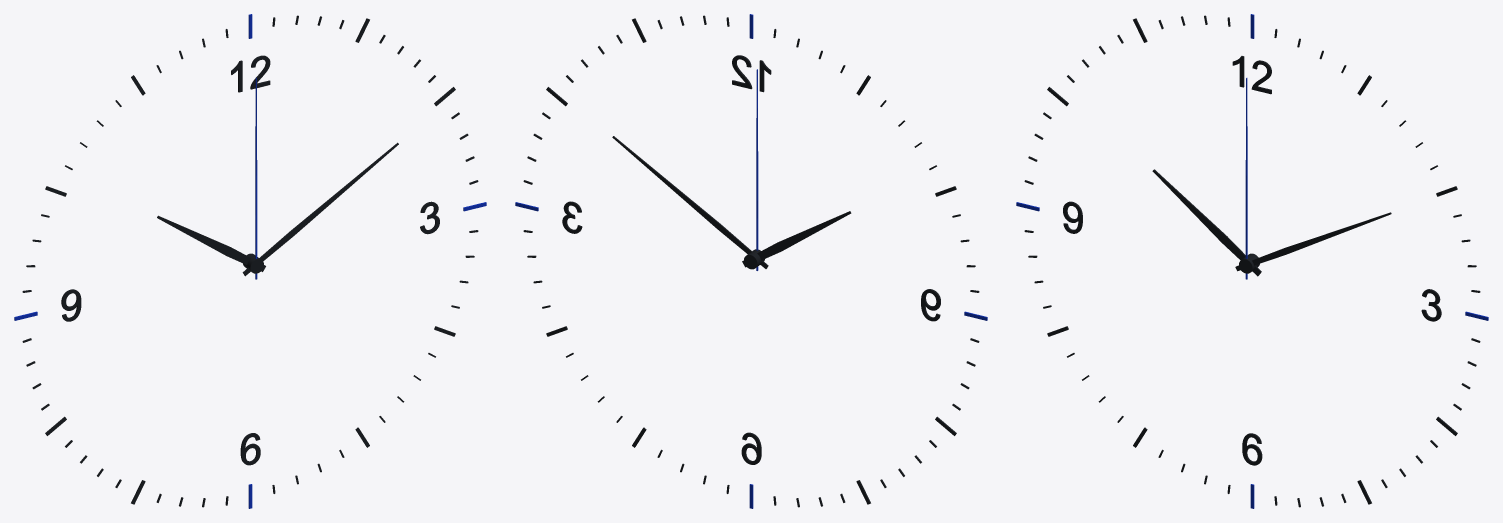
The model's file is wallClock-2.glb.
The picture shows the model from 3 angles, left to right: view 1: azimuth 30°, elevation 25°; view 2: azimuth 150°, elevation 25°; view 3: azimuth 330°, elevation 25°; orthographic projection.
Parts seen in each view (by area): view 1: Clock_graphite, Clock_minute_hand_blade, Clock_hour_hand_blade; view 2: Clock_graphite, Clock_minute_hand_blade, Clock_hour_hand_blade; view 3: Clock_graphite, Clock_hour_hand_blade, Clock_minute_hand_blade.
Boxes of the visible parts, x1=… form: Clock_graphite: x1=22, y1=15, x2=478, y2=507; Clock_minute_hand_blade: x1=242, y1=142, x2=398, y2=276; Clock_hour_hand_blade: x1=157, y1=215, x2=265, y2=271; Clock_graphite: x1=523, y1=15, x2=979, y2=507; Clock_minute_hand_blade: x1=612, y1=136, x2=768, y2=268; Clock_hour_hand_blade: x1=742, y1=211, x2=851, y2=267; Clock_graphite: x1=1024, y1=15, x2=1480, y2=507; Clock_hour_hand_blade: x1=1152, y1=169, x2=1261, y2=276; Clock_minute_hand_blade: x1=1235, y1=212, x2=1391, y2=271.
Bounding box in the file's own units: 1.25 × 1.25 × 0.035.
